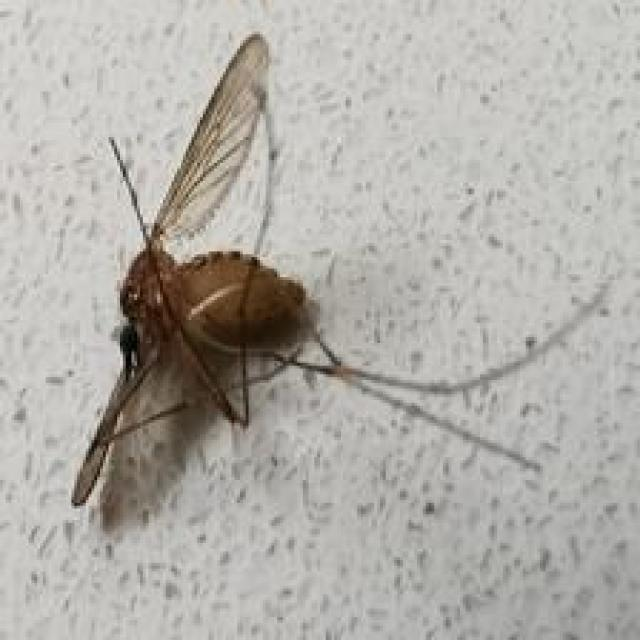Culex: (69, 30, 620, 510)
